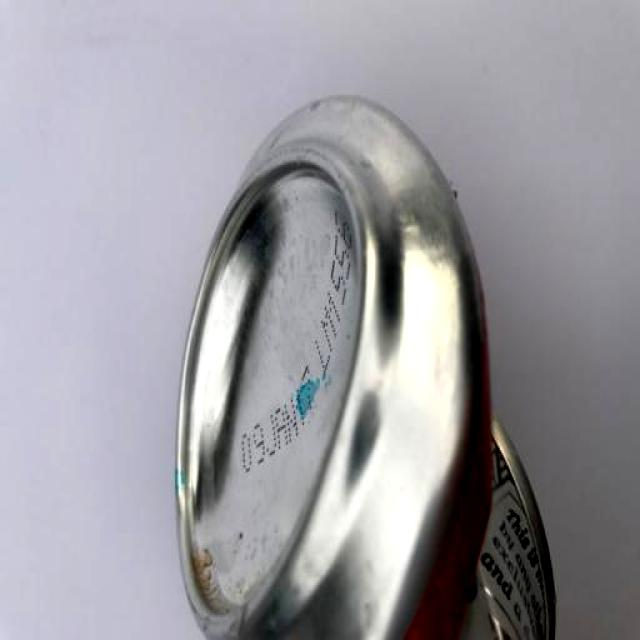Metal: (172, 104, 563, 640)
